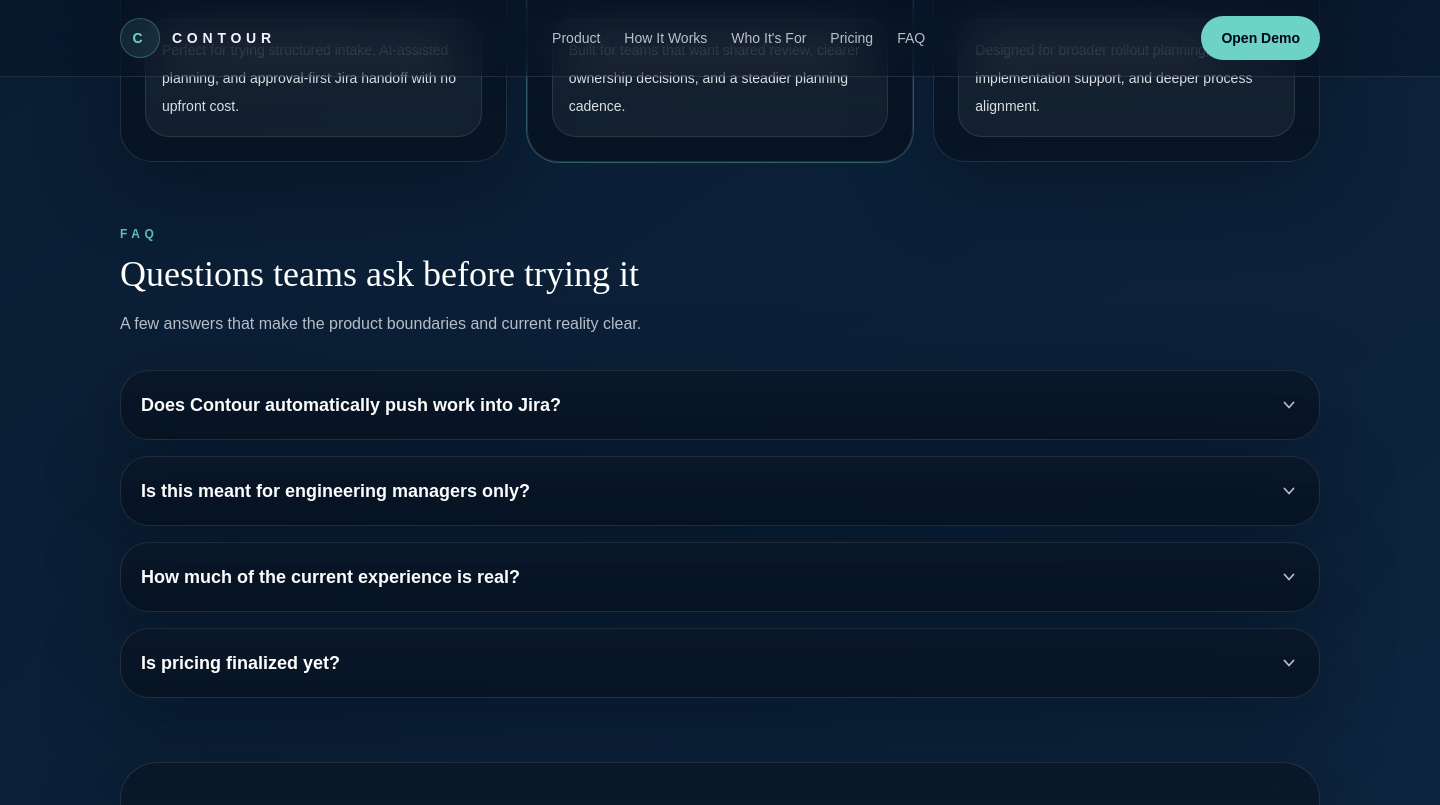
MarketingHomepage › expands a faq answer when its question is clicked
The width and height of the screenshot is (1440, 805).
(page scrolled)
Click the button "Does Contour automatically push work into Jira?" at {"x": 351, "y": 405}, box [141,391,1299,419]
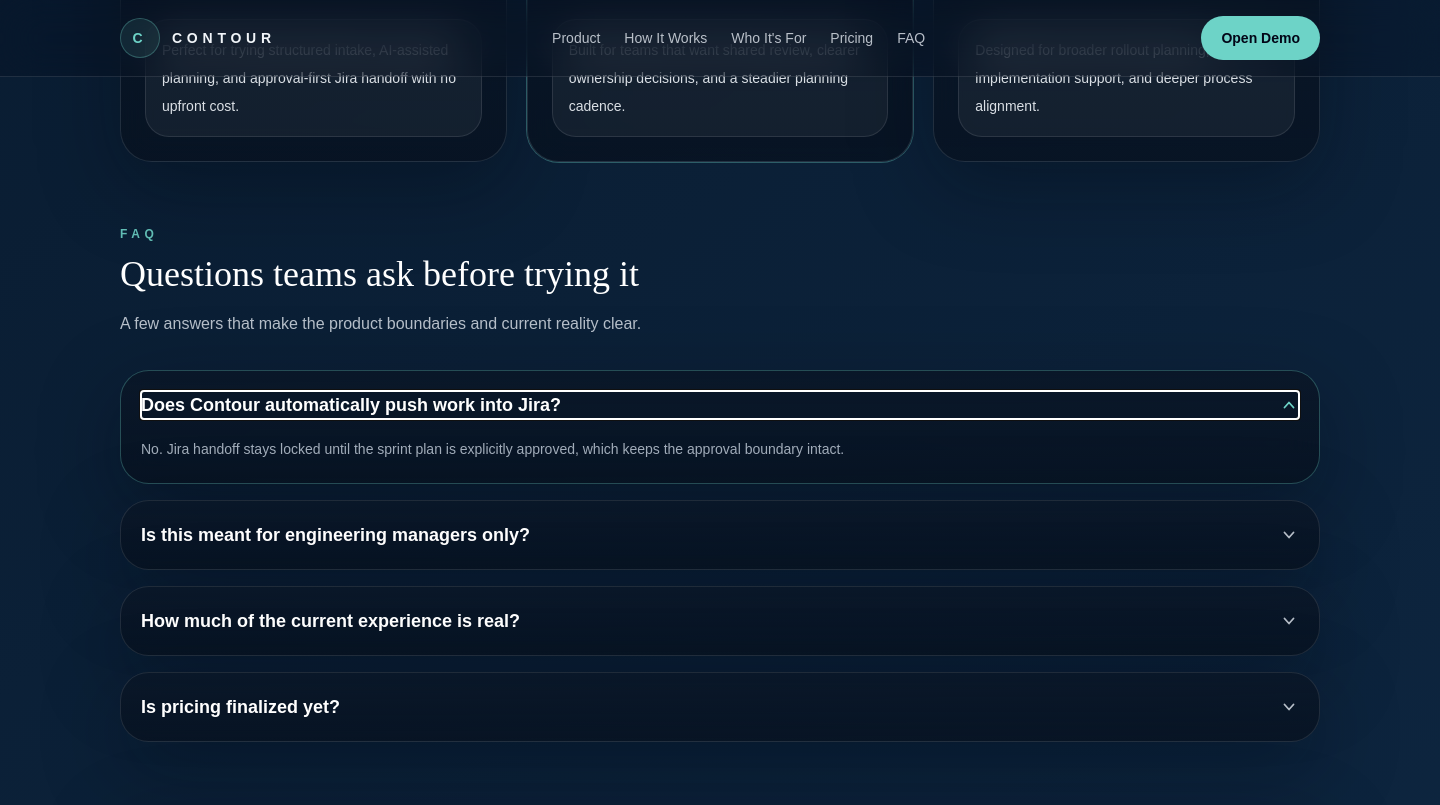
Result: the button "Does Contour automatically push work into Jira?" is expanded at [141,391,1299,419]
Result: the text "Jira handoff stays locked until the sprint plan is explicitly approved" is shown at [141,441,844,457]
